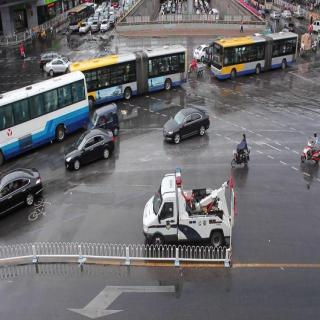BigCar: (64, 34, 190, 112), (1, 68, 89, 161), (208, 25, 302, 80), (66, 6, 88, 32)
Car: (141, 170, 240, 250), (160, 100, 215, 152), (0, 163, 43, 218), (56, 127, 119, 163), (44, 54, 70, 81), (99, 17, 110, 33), (90, 18, 101, 32), (78, 18, 89, 32)
